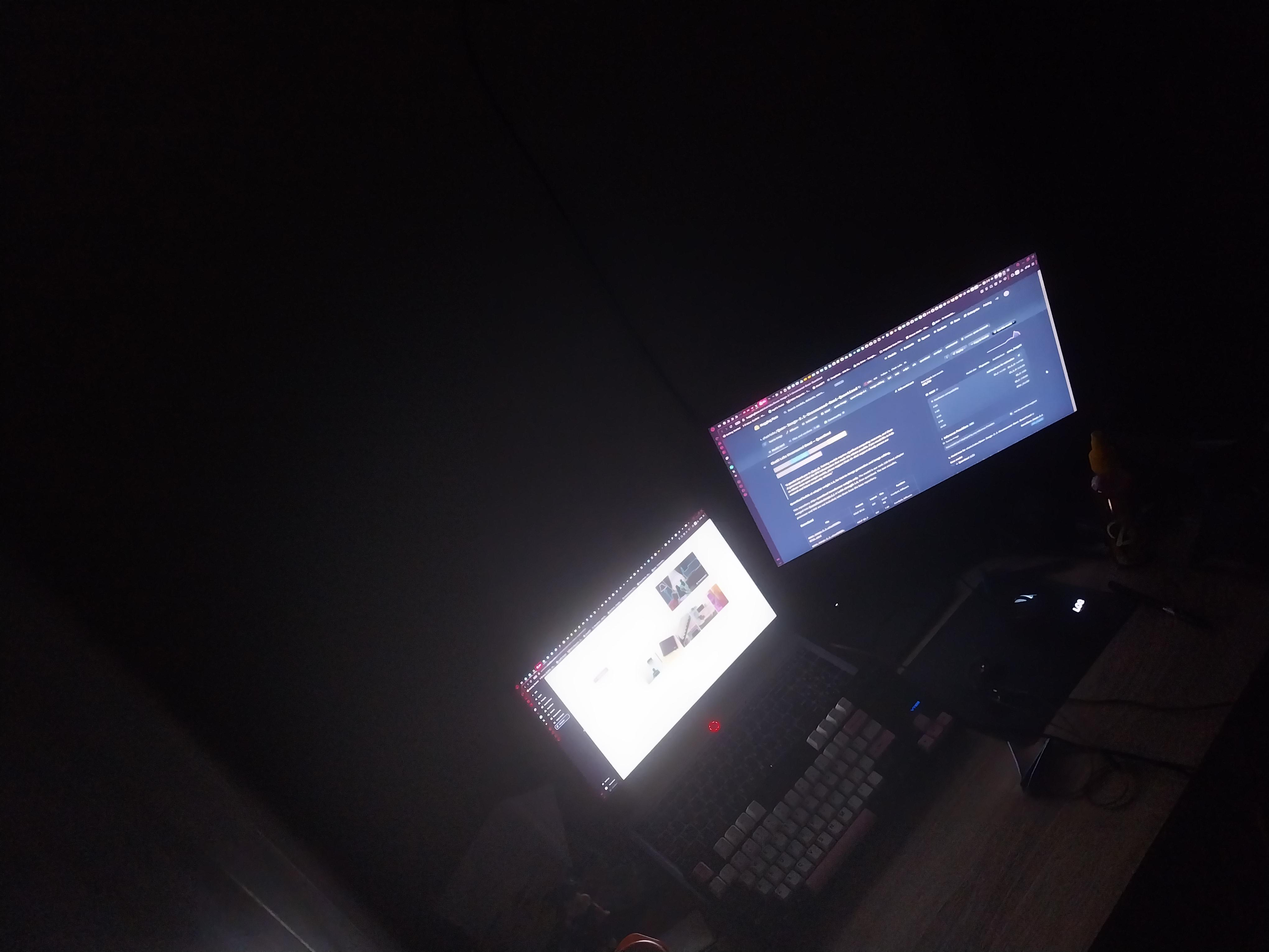keyboard: (2, 513, 410, 725)
laptop: (60, 369, 606, 677)
mouse: (427, 749, 494, 828)
